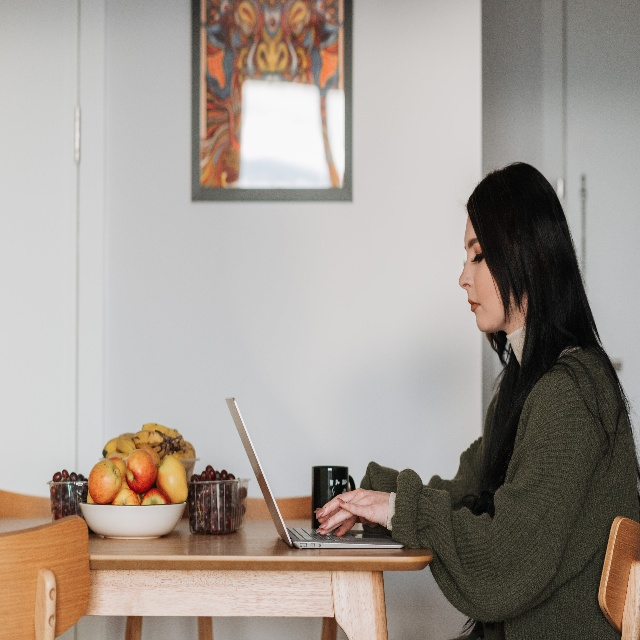Sin_guantes: (316, 487, 389, 528), (316, 508, 378, 538)
